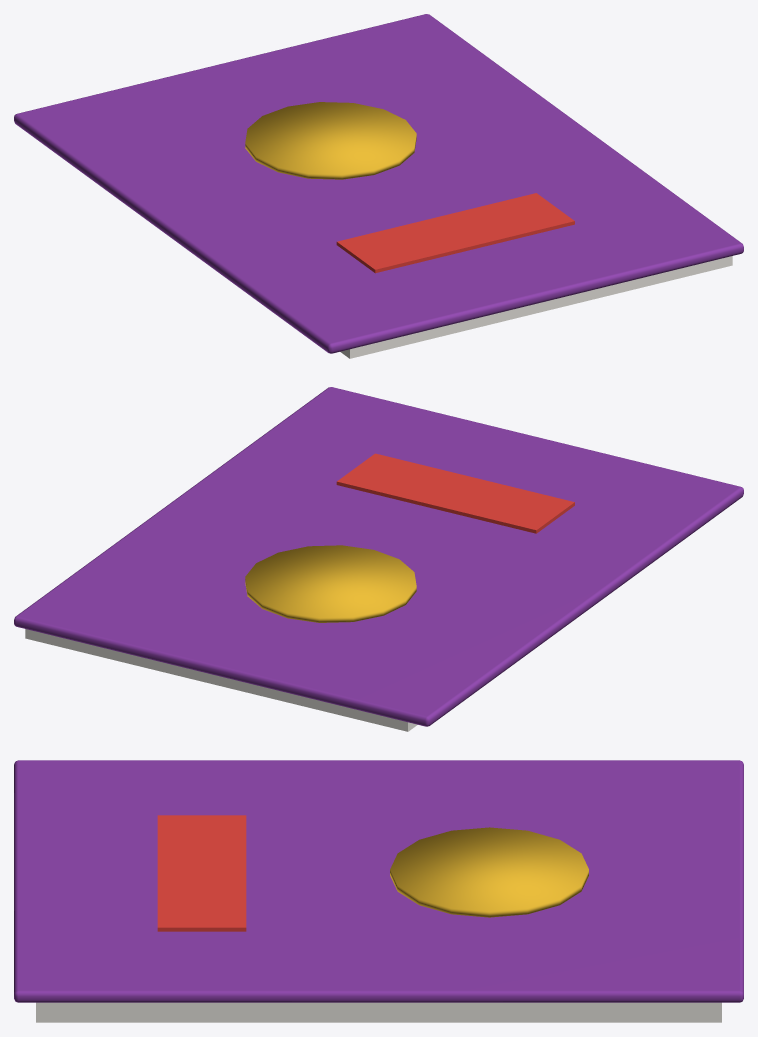
File: RivalCv.fbx
The picture shows the model from 3 angles, top to bottom: view 1: azimuth 30°, elevation 25°; view 2: azimuth 150°, elevation 25°; view 3: azimuth 270°, elevation 25°; orthographic projection. The views are drawn at different scales.
Visible parts, largest first — view 1: Cover.001, Logo, Stamp, Pages.001; view 2: Cover.001, Logo, Stamp, Pages.001; view 3: Cover.001, Pages.001, Logo, Stamp.
Part boxes in pixels (bbox=[...]): Cover.001: bbox=[14, 14, 743, 353]; Logo: bbox=[245, 102, 416, 179]; Stamp: bbox=[336, 193, 574, 273]; Pages.001: bbox=[340, 256, 732, 358]; Cover.001: bbox=[14, 387, 743, 726]; Logo: bbox=[245, 545, 416, 622]; Stamp: bbox=[336, 453, 574, 533]; Pages.001: bbox=[25, 629, 417, 731]; Cover.001: bbox=[14, 760, 743, 1002]; Pages.001: bbox=[36, 1002, 721, 1022]; Logo: bbox=[390, 827, 588, 917]; Stamp: bbox=[157, 815, 246, 931].
Bounding box in the file's own units: 0.25 × 0.019 × 0.33.
